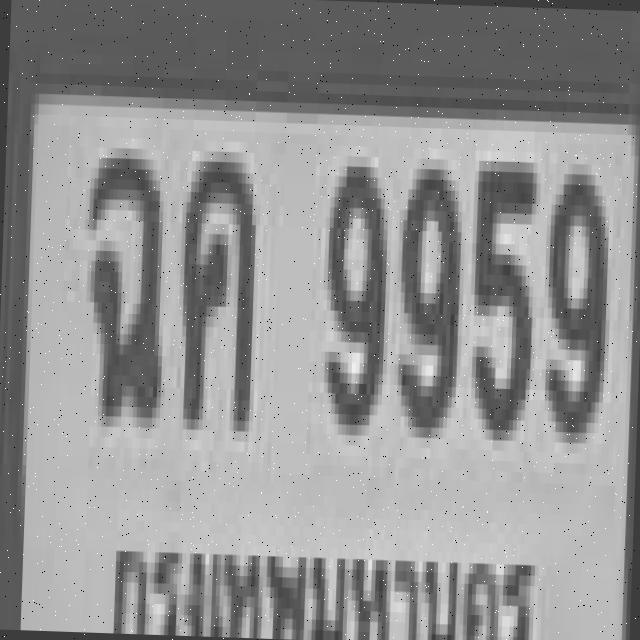13KhorKhwai: (175, 140, 255, 421)
18ChorChing: (78, 136, 165, 418)
5: (466, 150, 534, 430)
9: (318, 155, 386, 425), (392, 158, 459, 428), (540, 163, 606, 433)
Bangkok: (110, 514, 556, 640)
